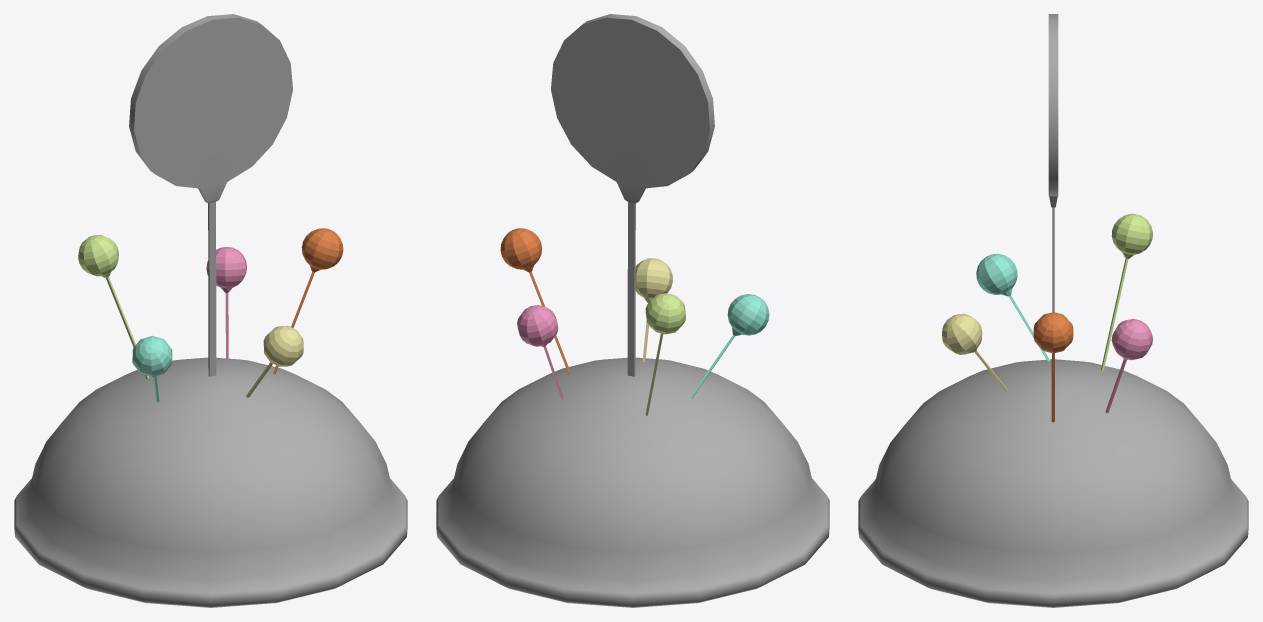
The model's file is machibari.fbx.
The picture shows the model from 3 angles, left to right: view 1: azimuth 30°, elevation 25°; view 2: azimuth 150°, elevation 25°; view 3: azimuth 270°, elevation 25°; orthographic projection.
Visible parts, largest first — view 1: pSphere8; view 2: pSphere8; view 3: pSphere8.
Boxes of the visible parts, <box> form: pSphere8: <box>14,14,407,607</box>; pSphere8: <box>436,14,829,607</box>; pSphere8: <box>858,14,1248,607</box>.
Bounding box in the file's own units: 18.39 × 26.02 × 18.11.
